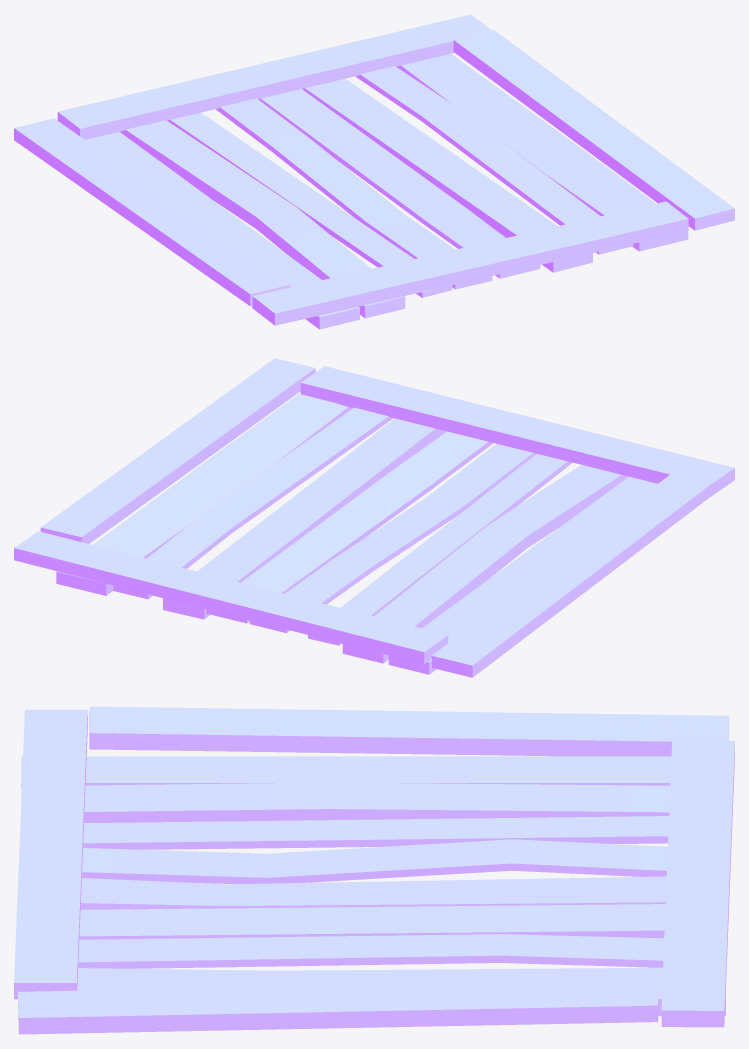
Rendered from board_block_transp.glb.
3 views of the same model, one above another, from view 1: azimuth 30°, elevation 25°; view 2: azimuth 150°, elevation 25°; view 3: azimuth 270°, elevation 25° (orthographic). The views are drawn at different scales.
Visible parts, largest first — view 1: boards_transparent; view 2: boards_transparent; view 3: boards_transparent.
Part boxes in pixels (x1,y1,x2,y2): boards_transparent: [14, 14, 734, 329]; boards_transparent: [14, 358, 734, 677]; boards_transparent: [14, 706, 734, 1034].
Bounding box in the file's own units: 1.01 × 0.0636 × 1.01.
1 material, 1 textured.
